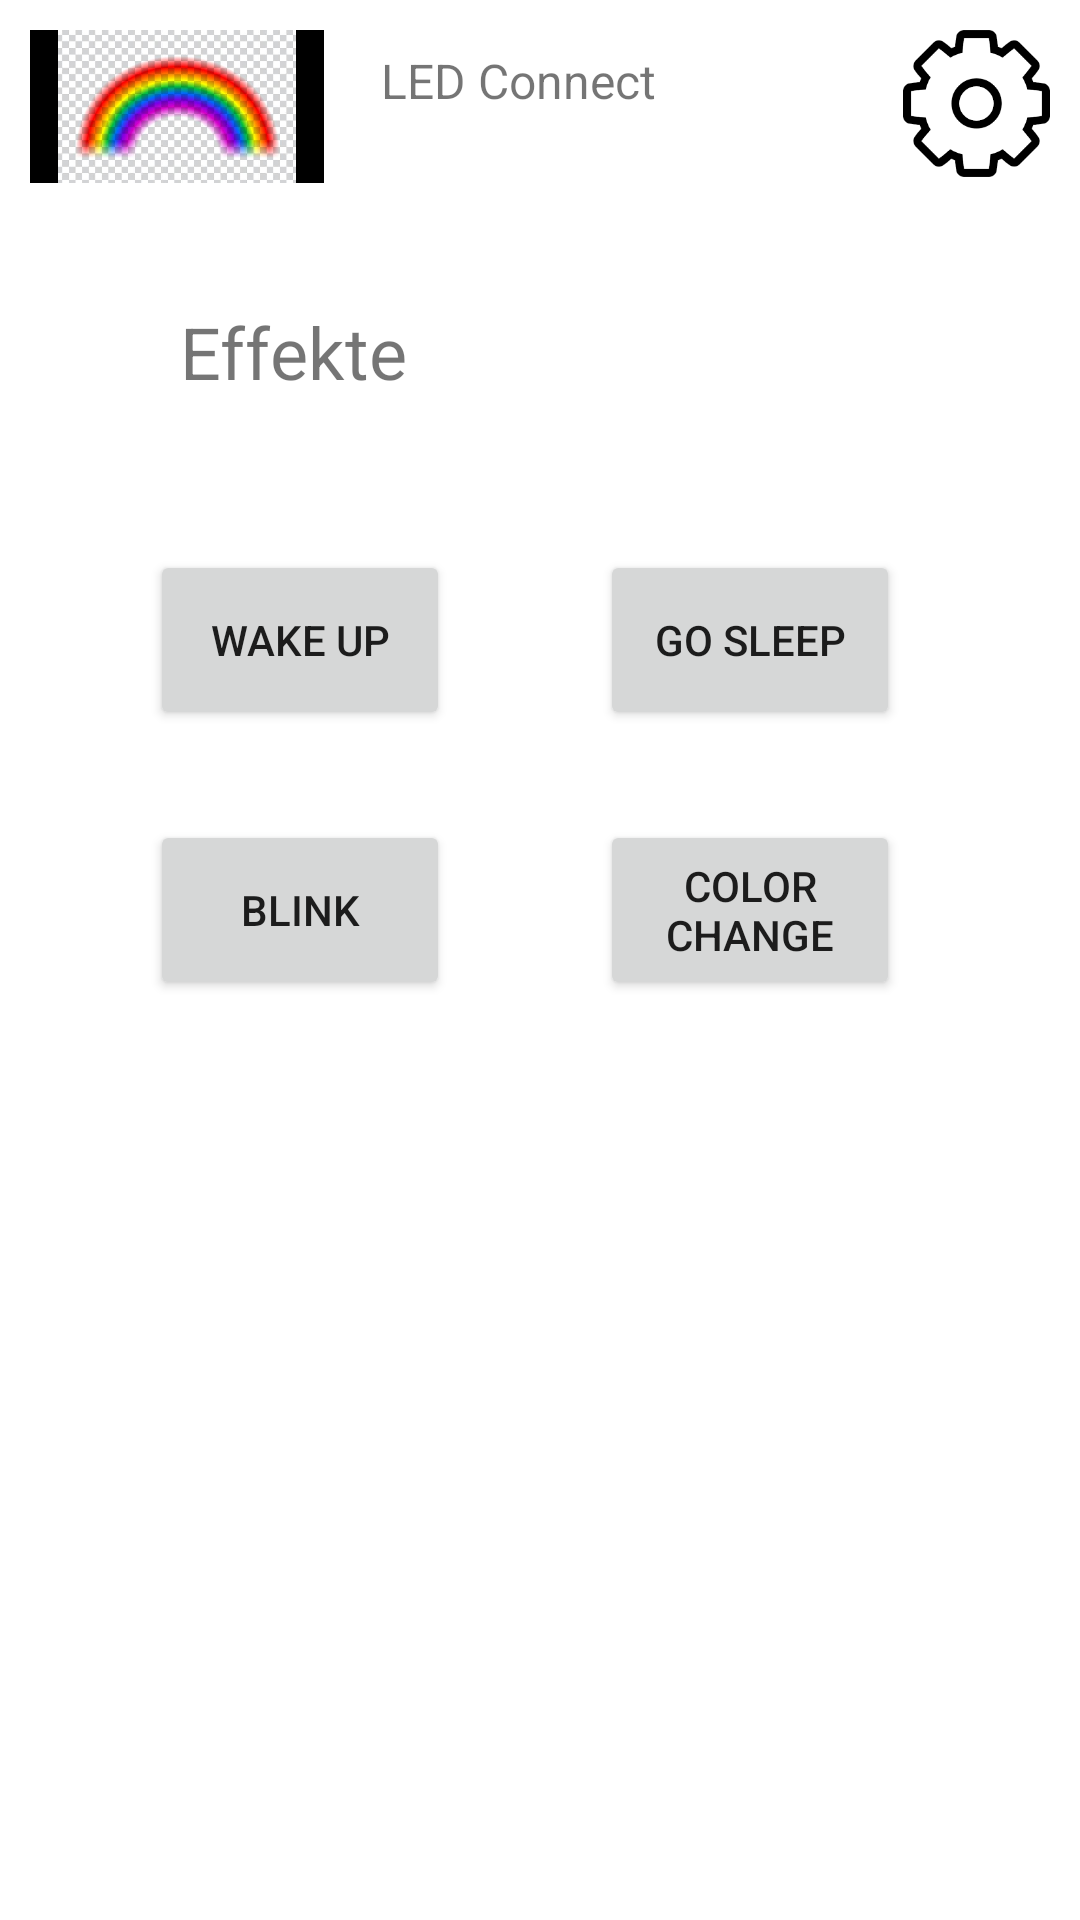

Named icons in this screenshot (1080 x 1920) and their centers, (x=x, y=y):
einstellungen: (x=976, y=103)
